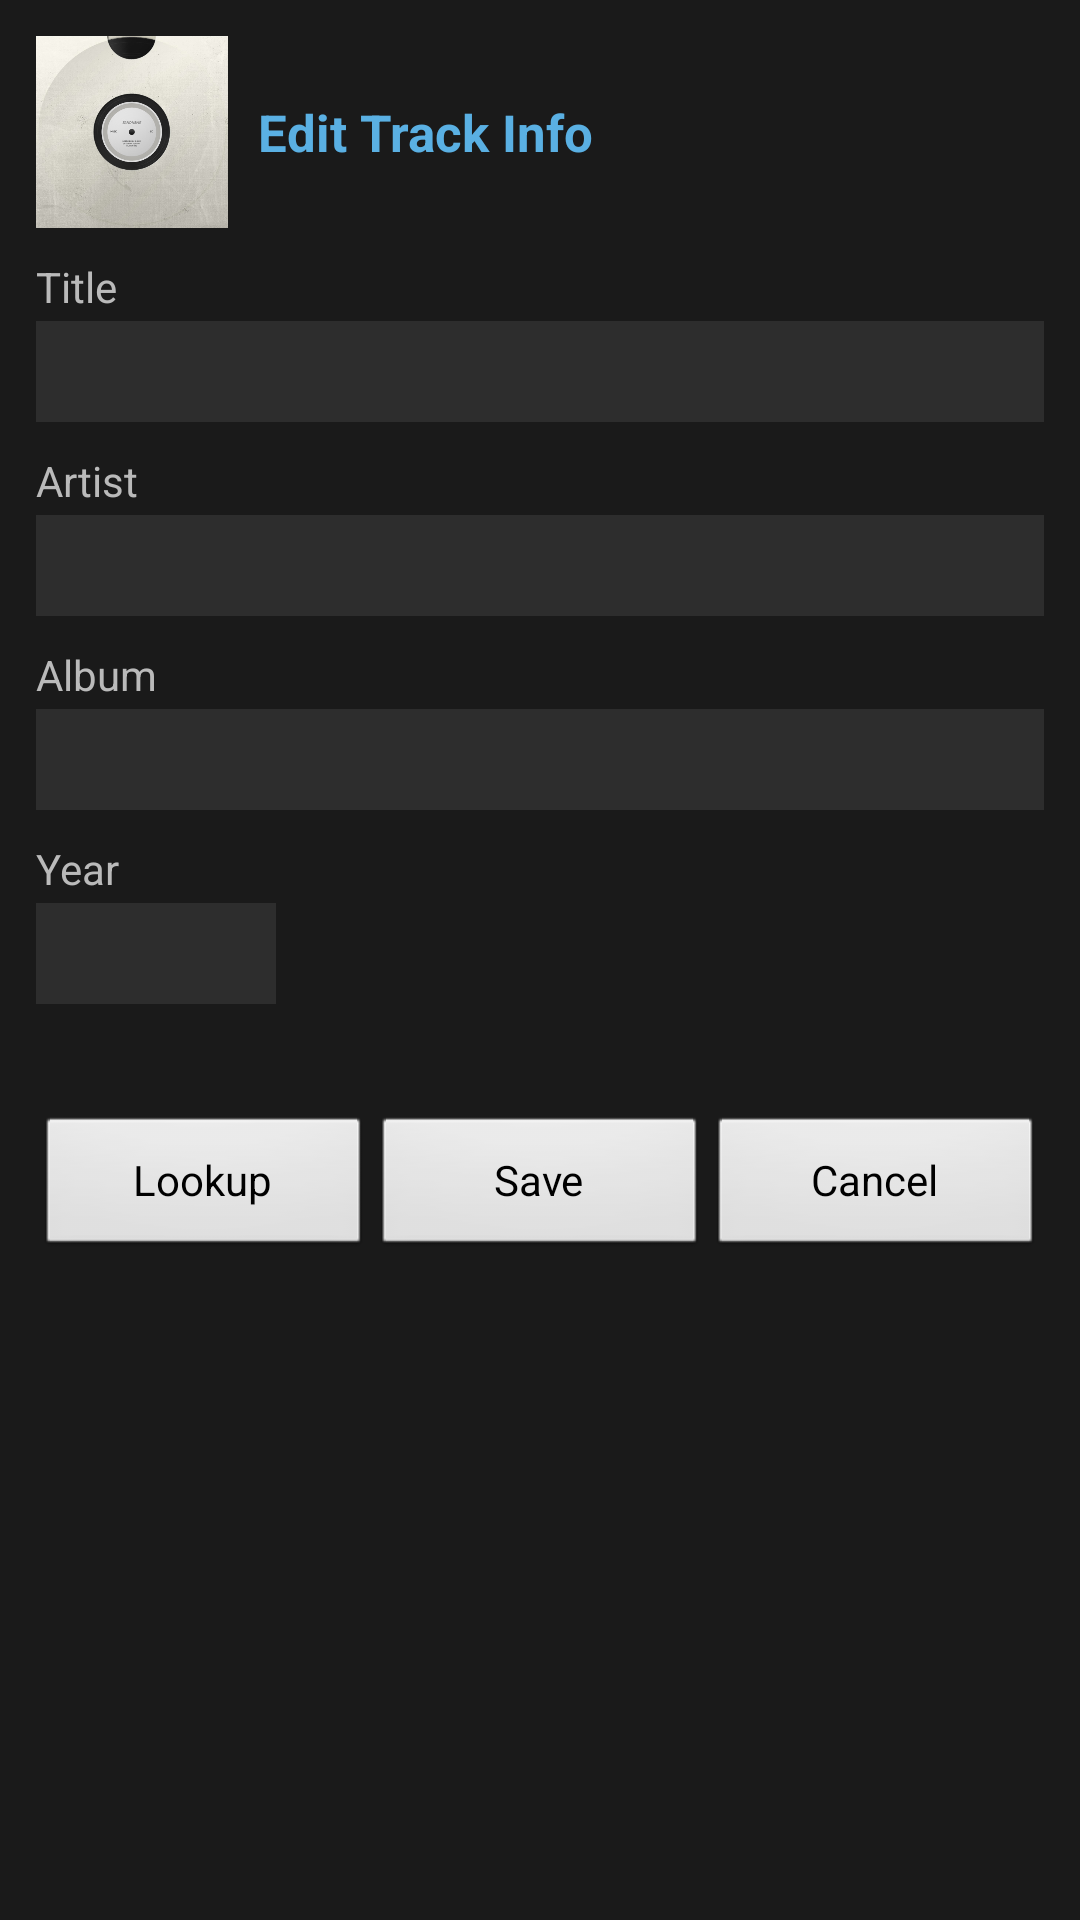

Point at icon controls on the screen. Image size 1080x1920, points as point (x, y).
musicplayer album: point (132, 132)
